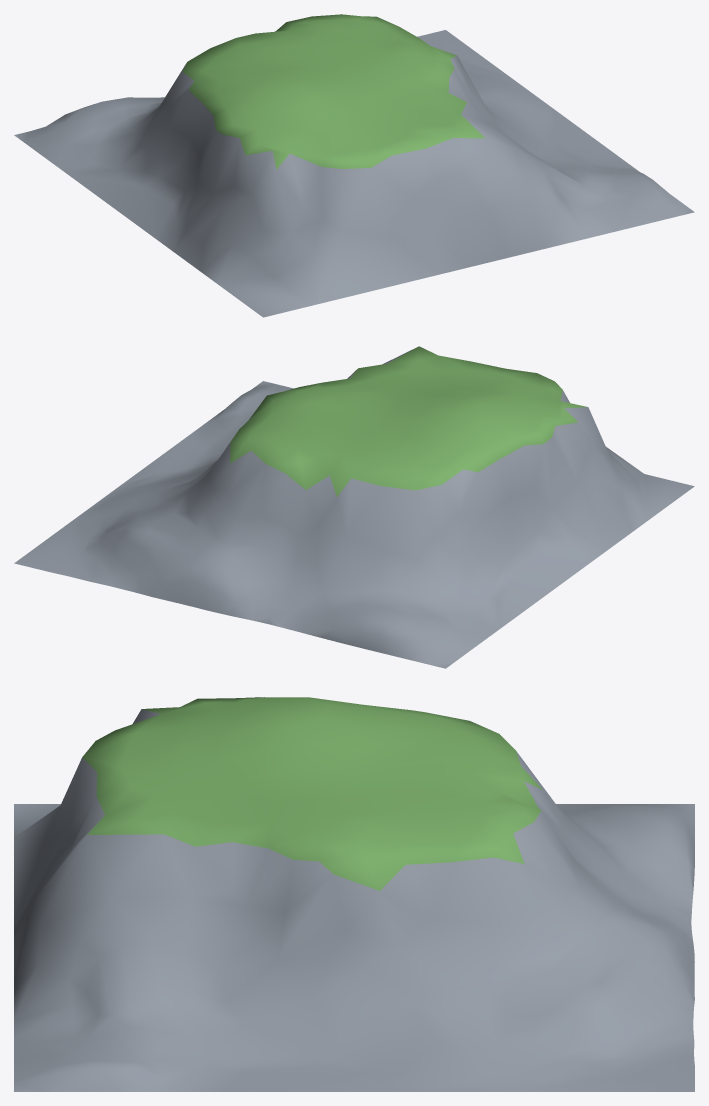
Rendered from SM_Cliffs_16.obj.
3 views of the same model, one above another, from view 1: azimuth 30°, elevation 25°; view 2: azimuth 150°, elevation 25°; view 3: azimuth 270°, elevation 25° (orthographic). The views are drawn at different scales.
Parts seen in each view (by area): view 1: SM_Cliffs_16; view 2: SM_Cliffs_16; view 3: SM_Cliffs_16.
Part boxes in pixels (x1=…): SM_Cliffs_16: x1=14, y1=14, x2=694, y2=317; SM_Cliffs_16: x1=14, y1=346, x2=694, y2=668; SM_Cliffs_16: x1=14, y1=697, x2=694, y2=1091.
Bounding box in the file's own units: 23.73 × 6.55 × 23.73.
1 material, 1 textured.
